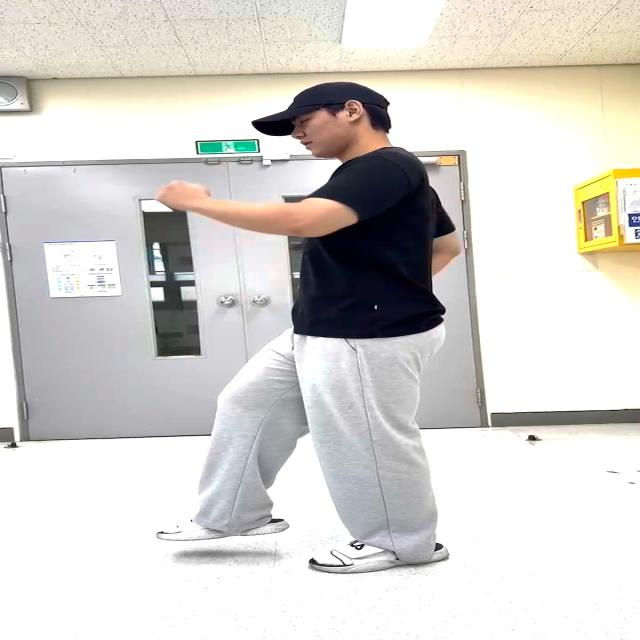leg: (174, 349, 294, 533)
